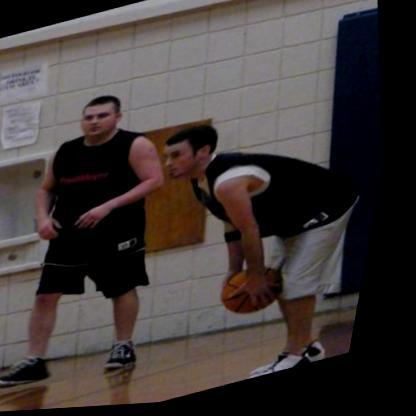basketball: (225, 261, 302, 323)
